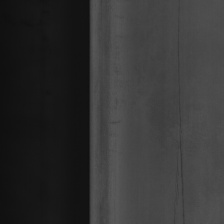inclusion: (172, 5, 186, 223)
